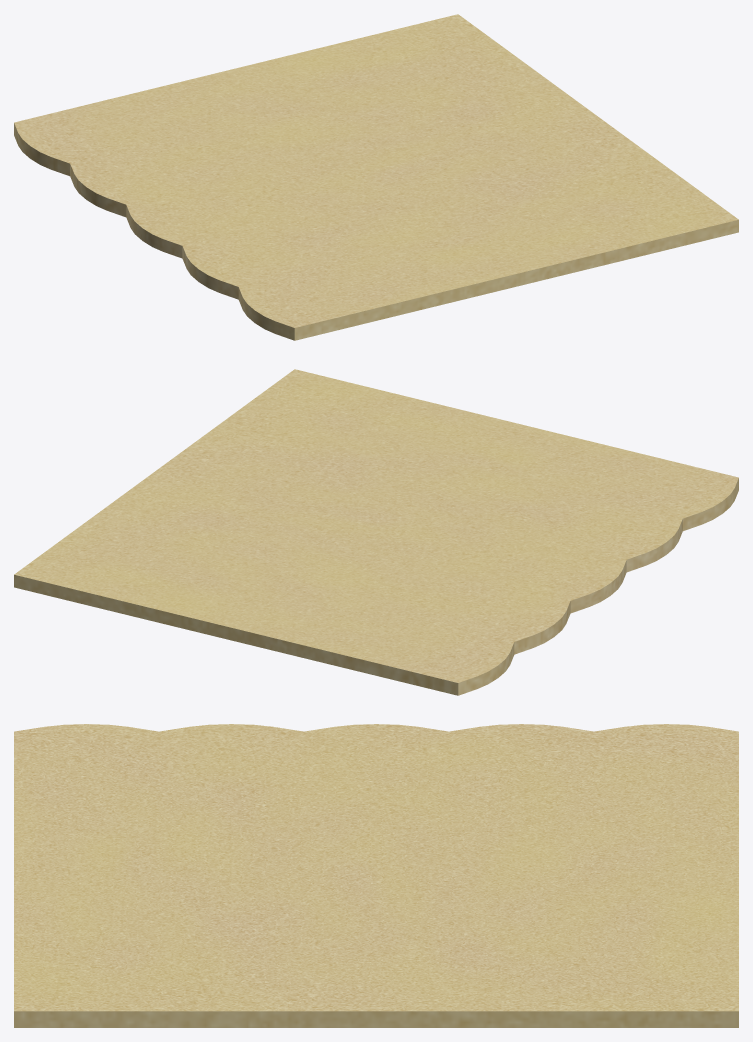
Rendered from ArenaNivel4.fbx.
3 renders of one model, top to bottom at view 1: azimuth 30°, elevation 25°; view 2: azimuth 150°, elevation 25°; view 3: azimuth 270°, elevation 25°, orthographic. The views are drawn at different scales.
Visible parts, largest first — view 1: Cube; view 2: Cube; view 3: Cube.
Part boxes in pixels (<box>): Cube: <box>14,14,738,340</box>; Cube: <box>14,369,738,695</box>; Cube: <box>14,724,738,1027</box>.
Size of the model in its own units: 376 by 10.05 by 401.
